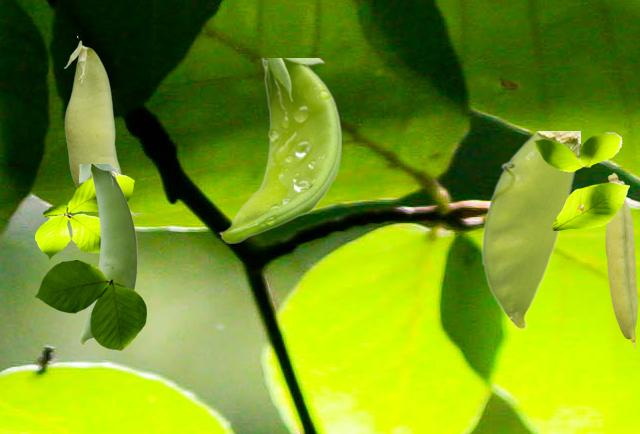pea: (218, 58, 340, 242), (481, 131, 579, 328), (63, 40, 141, 215), (79, 164, 136, 344), (605, 172, 637, 347)
